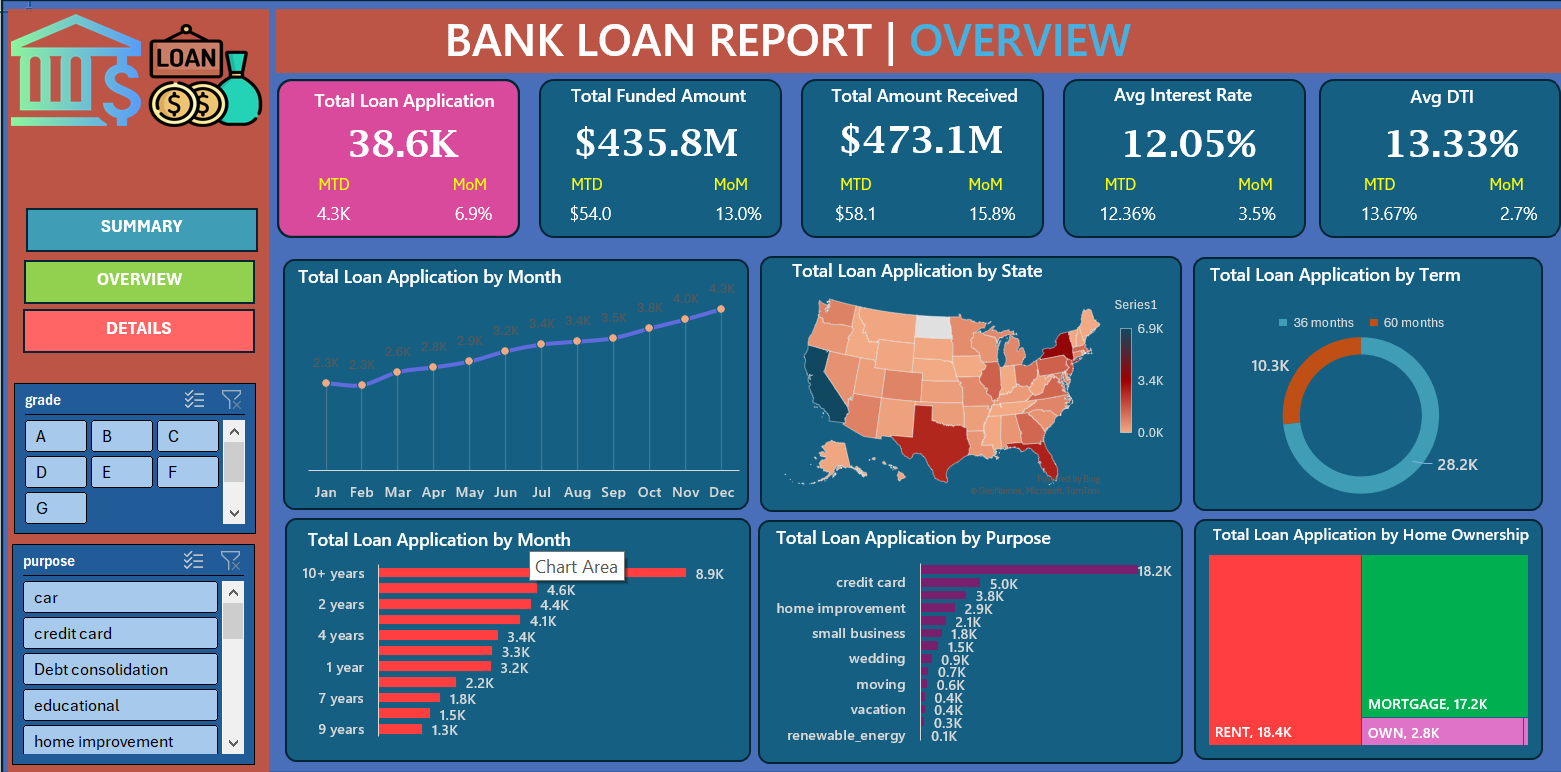

This screenshot's page, from the dashboard's own definition file:
{"tool":"powerbi","page":{"name":"Overveiw","canvas":[1280,720],"ordinal":1},"visuals":[{"type":"image","box":[3.1,0,79.7,84.4],"z":0,"group":"g6"},{"type":"shape","box":[206.3,64.1,191,125],"z":0,"group":"g1"},{"type":"shape","box":[422,64.1,191,125],"z":0,"group":"g2"},{"type":"shape","box":[636.1,64.1,191,125],"z":0,"group":"g3"},{"type":"shape","box":[850.3,64.1,194.1,125],"z":0,"group":"g4"},{"type":"shape","box":[1067.5,64.1,191,125],"z":0,"group":"g5"},{"type":"shape","box":[206.3,207.9,450,235],"z":0},{"type":"shape","box":[192.2,0,1087.8,61],"z":1000},{"type":"image","box":[82.8,10.9,93.8,73.5],"z":1000,"group":"g6"},{"type":"card","fields":{"Values":["public loan_data.Total Loan Applications"]},"box":[220.4,96.9,162.6,46.9],"z":1000,"group":"g1"},{"type":"card","fields":{"Values":["public loan_data.Total Funded Amount"]},"box":[435.6,96.9,157,46.9],"z":1000,"group":"g2"},{"type":"card","fields":{"Values":["public loan_data.Total Amount Received"]},"box":[649.7,96.9,157,46.9],"z":1000,"group":"g3"},{"type":"card","fields":{"Values":["public loan_data.Avg Interest Rate"]},"box":[864.1,96.9,159.5,46.9],"z":1000,"group":"g4"},{"type":"card","fields":{"Values":["public loan_data.Avg DTI"]},"box":[1081.1,96.9,157,46.9],"z":1000,"group":"g5"},{"type":"shape","box":[0,0,192.2,720.5],"z":2000},{"type":"textbox","box":[206.3,64.1,190.7,39.1],"z":2000,"group":"g1"},{"type":"textbox","box":[422,64.1,184.1,39.1],"z":2000,"group":"g2"},{"type":"textbox","box":[636.1,64.1,184.1,39.1],"z":2000,"group":"g3"},{"type":"textbox","box":[850.3,64.1,187.1,39.1],"z":2000,"group":"g4"},{"type":"textbox","box":[1067.5,64.1,184.1,39.1],"z":2000,"group":"g5"},{"type":"textbox","box":[243.8,0,616.1,60.5],"z":3000},{"type":"card","title":"MTD","fields":{"Values":["public loan_data.MTD Loan Applications"]},"box":[206.3,143.8,87.5,45.3],"z":3000,"group":"g1"},{"type":"card","title":"MTD","fields":{"Values":["public loan_data.MTD Funded Amount"]},"box":[422,143.8,84.5,45.3],"z":3000,"group":"g2"},{"type":"card","title":"MTD","fields":{"Values":["public loan_data.MTD Total Amount Recieved"]},"box":[636.1,143.8,84.5,45.3],"z":3000,"group":"g3"},{"type":"card","title":"MTD","fields":{"Values":["public loan_data.Avg Interest Rate"]},"box":[850.3,143.8,85.9,45.3],"z":3000,"group":"g4"},{"type":"card","title":"MTD","fields":{"Values":["public loan_data.MTD Avg DTI"]},"box":[1067.5,143.8,84.5,45.3],"z":3000,"group":"g5"},{"type":"group","id":"g1","title":"Group 1","box":[206.3,64.1,190.7,125],"z":4000},{"type":"card","title":"MoM","fields":{"Values":["public loan_data.MoM Loan Application"]},"box":[301.6,143.8,87.5,45.3],"z":4000,"group":"g1"},{"type":"card","title":"MoM","fields":{"Values":["public loan_data.MoM Total Funded Amount"]},"box":[514.1,143.8,84.5,45.3],"z":4000,"group":"g2"},{"type":"card","title":"MoM","fields":{"Values":["public loan_data.MoM Total Recieved Amount"]},"box":[728.2,143.8,84.5,45.3],"z":4000,"group":"g3"},{"type":"card","title":"MoM","fields":{"Values":["public loan_data.MoM Avg Int Rate"]},"box":[943.9,143.8,85.9,45.3],"z":4000,"group":"g4"},{"type":"card","title":"MoM","fields":{"Values":["public loan_data.MoM Avg DTI"]},"box":[1159.6,143.8,84.5,45.3],"z":4000,"group":"g5"},{"type":"group","id":"g2","title":"Group 1","box":[422,64.1,192.2,125],"z":5000},{"type":"group","id":"g3","title":"Group 1","box":[636.1,64.1,192.2,125],"z":6000},{"type":"group","id":"g4","title":"Group 1","box":[850.3,64.1,193.8,125],"z":7000},{"type":"group","id":"g5","title":"Group 1","box":[1067.5,64.1,192.2,125],"z":8000},{"type":"image","box":[844,0,120.4,61],"z":9000},{"type":"group","id":"g6","title":"Group 2","box":[3.1,0,173.5,84.4],"z":10000},{"type":"slicer","fields":{"Values":["public loan_data.address_state"]},"box":[0,442.3,189.1,51.6],"z":12000},{"type":"textbox","box":[3.1,406.4,90.7,35.9],"z":13000},{"type":"slicer","fields":{"Values":["public loan_data.grade"]},"box":[0,543.9,189.1,51.6],"z":14000},{"type":"textbox","box":[3.1,503.3,78.1,35.9],"z":15000},{"type":"slicer","fields":{"Values":["public loan_data.Good vs Bad Loan"]},"box":[1.6,648.6,189.1,51.6],"z":16000},{"type":"textbox","box":[6.3,612.7,157.9,35.9],"z":17000},{"type":"areaChart","fields":{"Y":["public loan_data.Total Amount Received"],"Category":["Date Table.Month"]},"box":[211,207.9,439.2,234.4],"z":18000},{"type":"slicer","fields":{"Values":["Select Measure.Select Measure"]},"box":[0,353.2,189.1,53.1],"z":19000},{"type":"textbox","box":[3.1,317.3,136,35.9],"z":20000},{"type":"shape","box":[664.3,207.9,359.5,236],"z":21000},{"type":"shapeMap","title":"Total Amount Received by State","fields":{"Value":["public loan_data.Total Amount Received"],"Category":["public loan_data.address_state"]},"box":[664.3,209.4,353.2,232.9],"z":22000},{"type":"shape","box":[1030,206.3,229.8,236],"z":23000},{"type":"donutChart","fields":{"Y":["public loan_data.Total Amount Received"],"Category":["public loan_data.term"]},"box":[1030,209.4,229.8,232.9],"z":24000},{"type":"shape","box":[206.3,464.2,450.1,236],"z":25000},{"type":"barChart","fields":{"Y":["public loan_data.Total Amount Received"],"Category":["public loan_data.emp_length"]},"box":[211,468.9,439.2,231.3],"z":26000},{"type":"shape","box":[664.3,464.2,359.5,236],"z":26001},{"type":"barChart","fields":{"Category":["public loan_data.purpose"],"Y":["public loan_data.Total Amount Received"]},"box":[664.3,468.9,353.2,231.3],"z":26002},{"type":"shape","box":[1037.8,464.2,226.6,236],"z":26003},{"type":"treemap","fields":{"Group":["public loan_data.home_ownership"],"Values":["public loan_data.Total Amount Received"]},"box":[1037.8,464.2,226.6,236],"z":26004},{"type":"pageNavigator","box":[0,111,192.2,171.9],"z":26005},{"type":"image","box":[1151.9,0,125,61],"z":26006}]}

Visuals, with their boxes on the page's 1280x720 design canvas (x1, y1, x2, y2). These are canvas units, not pixel positions in the 1561x772 screenshot, which may show the page scaled, cropped or inside an application window:
image: {"x1": 3, "y1": 0, "x2": 83, "y2": 84}
shape: {"x1": 206, "y1": 64, "x2": 397, "y2": 189}
shape: {"x1": 422, "y1": 64, "x2": 613, "y2": 189}
shape: {"x1": 636, "y1": 64, "x2": 827, "y2": 189}
shape: {"x1": 850, "y1": 64, "x2": 1044, "y2": 189}
shape: {"x1": 1068, "y1": 64, "x2": 1258, "y2": 189}
shape: {"x1": 206, "y1": 208, "x2": 656, "y2": 443}
shape: {"x1": 192, "y1": 0, "x2": 1280, "y2": 61}
image: {"x1": 83, "y1": 11, "x2": 177, "y2": 84}
card - public loan_data.Total Loan Applications: {"x1": 220, "y1": 97, "x2": 383, "y2": 144}
card - public loan_data.Total Funded Amount: {"x1": 436, "y1": 97, "x2": 593, "y2": 144}
card - public loan_data.Total Amount Received: {"x1": 650, "y1": 97, "x2": 807, "y2": 144}
card - public loan_data.Avg Interest Rate: {"x1": 864, "y1": 97, "x2": 1024, "y2": 144}
card - public loan_data.Avg DTI: {"x1": 1081, "y1": 97, "x2": 1238, "y2": 144}
shape: {"x1": 0, "y1": 0, "x2": 192, "y2": 720}
textbox: {"x1": 206, "y1": 64, "x2": 397, "y2": 103}
textbox: {"x1": 422, "y1": 64, "x2": 606, "y2": 103}
textbox: {"x1": 636, "y1": 64, "x2": 820, "y2": 103}
textbox: {"x1": 850, "y1": 64, "x2": 1037, "y2": 103}
textbox: {"x1": 1068, "y1": 64, "x2": 1252, "y2": 103}
textbox: {"x1": 244, "y1": 0, "x2": 860, "y2": 60}
"MTD" card: {"x1": 206, "y1": 144, "x2": 294, "y2": 189}
"MTD" card: {"x1": 422, "y1": 144, "x2": 506, "y2": 189}
"MTD" card: {"x1": 636, "y1": 144, "x2": 721, "y2": 189}
"MTD" card: {"x1": 850, "y1": 144, "x2": 936, "y2": 189}
"MTD" card: {"x1": 1068, "y1": 144, "x2": 1152, "y2": 189}
"Group 1" group: {"x1": 206, "y1": 64, "x2": 397, "y2": 189}
"MoM" card: {"x1": 302, "y1": 144, "x2": 389, "y2": 189}
"MoM" card: {"x1": 514, "y1": 144, "x2": 599, "y2": 189}
"MoM" card: {"x1": 728, "y1": 144, "x2": 813, "y2": 189}
"MoM" card: {"x1": 944, "y1": 144, "x2": 1030, "y2": 189}
"MoM" card: {"x1": 1160, "y1": 144, "x2": 1244, "y2": 189}
"Group 1" group: {"x1": 422, "y1": 64, "x2": 614, "y2": 189}
"Group 1" group: {"x1": 636, "y1": 64, "x2": 828, "y2": 189}
"Group 1" group: {"x1": 850, "y1": 64, "x2": 1044, "y2": 189}
"Group 1" group: {"x1": 1068, "y1": 64, "x2": 1260, "y2": 189}
image: {"x1": 844, "y1": 0, "x2": 964, "y2": 61}
"Group 2" group: {"x1": 3, "y1": 0, "x2": 177, "y2": 84}
slicer - public loan_data.address_state: {"x1": 0, "y1": 442, "x2": 189, "y2": 494}
textbox: {"x1": 3, "y1": 406, "x2": 94, "y2": 442}
slicer - public loan_data.grade: {"x1": 0, "y1": 544, "x2": 189, "y2": 596}
textbox: {"x1": 3, "y1": 503, "x2": 81, "y2": 539}
slicer - public loan_data.Good vs Bad Loan: {"x1": 2, "y1": 649, "x2": 191, "y2": 700}
textbox: {"x1": 6, "y1": 613, "x2": 164, "y2": 649}
areaChart - public loan_data.Total Amount Received x Date Table.Month: {"x1": 211, "y1": 208, "x2": 650, "y2": 442}
slicer - Select Measure.Select Measure: {"x1": 0, "y1": 353, "x2": 189, "y2": 406}
textbox: {"x1": 3, "y1": 317, "x2": 139, "y2": 353}
shape: {"x1": 664, "y1": 208, "x2": 1024, "y2": 444}
"Total Amount Received by State" shapeMap: {"x1": 664, "y1": 209, "x2": 1018, "y2": 442}
shape: {"x1": 1030, "y1": 206, "x2": 1260, "y2": 442}
donutChart - public loan_data.Total Amount Received x public loan_data.term: {"x1": 1030, "y1": 209, "x2": 1260, "y2": 442}
shape: {"x1": 206, "y1": 464, "x2": 656, "y2": 700}
barChart - public loan_data.Total Amount Received x public loan_data.emp_length: {"x1": 211, "y1": 469, "x2": 650, "y2": 700}
shape: {"x1": 664, "y1": 464, "x2": 1024, "y2": 700}
barChart - public loan_data.purpose x public loan_data.Total Amount Received: {"x1": 664, "y1": 469, "x2": 1018, "y2": 700}
shape: {"x1": 1038, "y1": 464, "x2": 1264, "y2": 700}
treemap - public loan_data.home_ownership x public loan_data.Total Amount Received: {"x1": 1038, "y1": 464, "x2": 1264, "y2": 700}
pageNavigator: {"x1": 0, "y1": 111, "x2": 192, "y2": 283}
image: {"x1": 1152, "y1": 0, "x2": 1277, "y2": 61}
